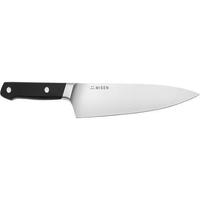knife: (1, 77, 200, 120)
